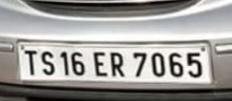0: (150, 48, 167, 79)
1: (59, 48, 71, 78)
5: (185, 48, 203, 79)
6: (167, 50, 186, 80), (69, 50, 86, 79)
7: (131, 48, 148, 80)
E: (91, 49, 109, 79)
R: (108, 49, 126, 79)
S: (39, 49, 58, 78)
T: (23, 48, 38, 78)
